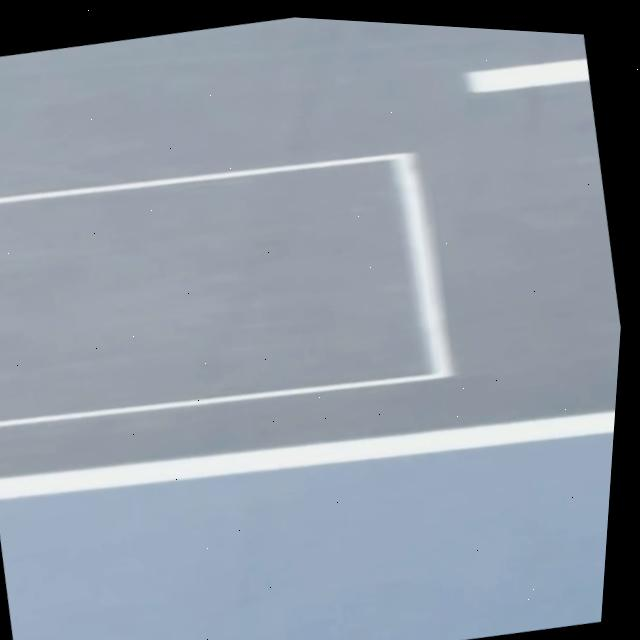center: (467, 59, 589, 92)
left: (0, 411, 615, 499)
